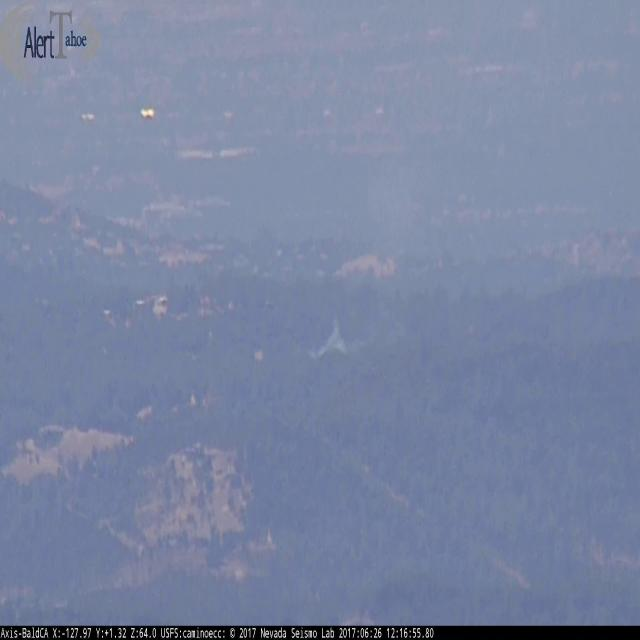smoke: (304, 314, 372, 364)
